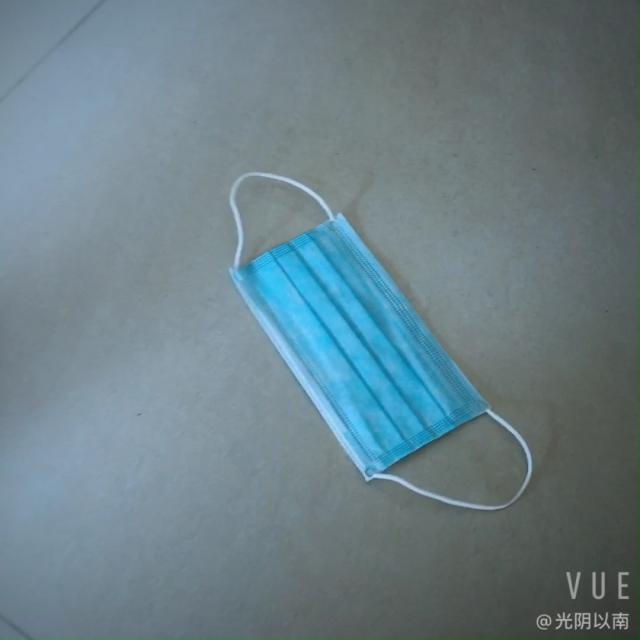face mask: (236, 222, 496, 494)
